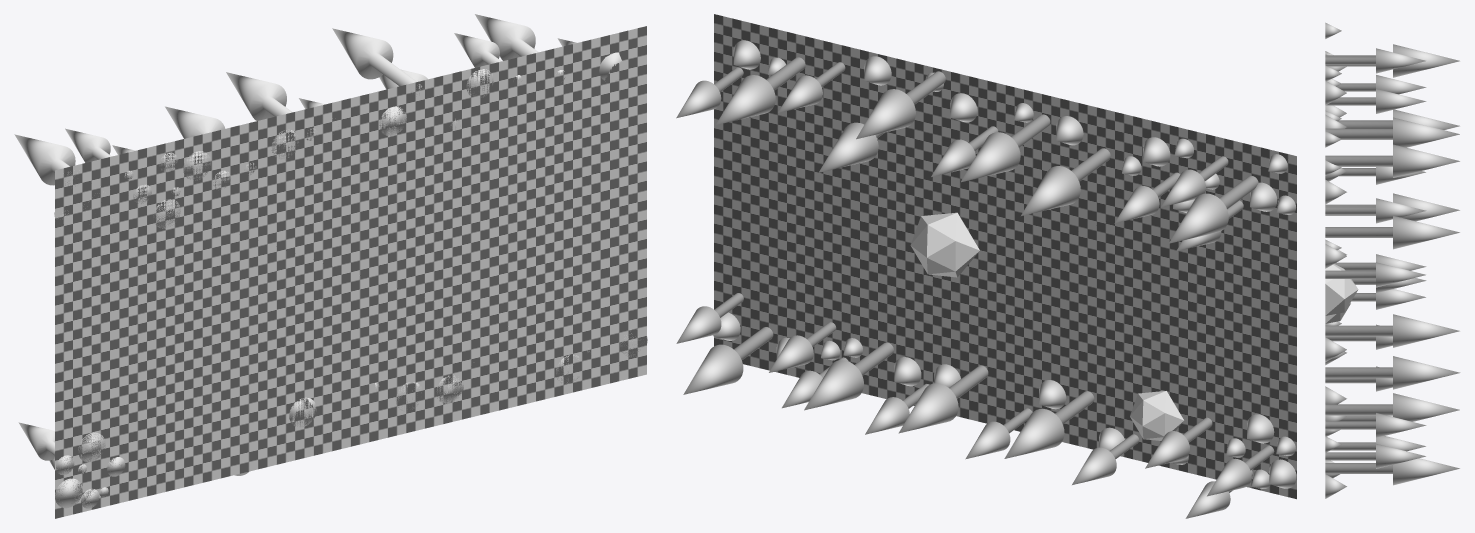
File: forest7.dae
The picture shows the model from 3 angles, left to right: view 1: azimuth 30°, elevation 25°; view 2: azimuth 150°, elevation 25°; view 3: azimuth 270°, elevation 25°; orthographic projection. The views are drawn at different scales.
Visible parts, largest first — view 1: Plane.007, Cone.379, Cone.371, Cone.380, Cone.357, Cone.368, Cone.338, Cone.341, Cone.361; view 2: Plane.007, Icosphere.009, Cone.350, Cone.372, Cone.390, Cone.386, Cone.371, Cone.379, Cone.380, Cone.368, Cone.357, Icosphere.008 (+15 smaller); view 3: Cone.372, Cone.350, Cone.379, Cone.380, Cone.386, Cone.371, Cone.390, Cone.395, Cone.338, Cone.397, Cone.341, Cone.387 (+22 smaller).
Part boxes in pixels (x1=…): Plane.007: x1=55, y1=26, x2=646, y2=518; Cone.379: x1=332, y1=28, x2=421, y2=95; Cone.371: x1=226, y1=72, x2=317, y2=140; Cone.380: x1=475, y1=14, x2=565, y2=82; Cone.357: x1=14, y1=134, x2=75, y2=185; Cone.368: x1=165, y1=106, x2=256, y2=175; Cone.338: x1=65, y1=128, x2=133, y2=180; Cone.341: x1=454, y1=33, x2=522, y2=81; Cone.361: x1=18, y1=422, x2=86, y2=473; Plane.007: x1=714, y1=14, x2=1296, y2=499; Icosphere.009: x1=910, y1=212, x2=979, y2=277; Cone.350: x1=1004, y1=391, x2=1094, y2=458; Cone.372: x1=898, y1=365, x2=988, y2=433; Cone.390: x1=683, y1=327, x2=773, y2=394; Cone.386: x1=804, y1=342, x2=893, y2=410; Cone.371: x1=961, y1=114, x2=1050, y2=182; Cone.379: x1=856, y1=71, x2=945, y2=139; Cone.380: x1=716, y1=57, x2=805, y2=124; Cone.368: x1=1021, y1=148, x2=1110, y2=215; Cone.357: x1=1169, y1=175, x2=1258, y2=243; Icosphere.008: x1=1130, y1=391, x2=1183, y2=440; Cone.372: x1=1325, y1=356, x2=1460, y2=389; Cone.350: x1=1325, y1=314, x2=1459, y2=347; Cone.379: x1=1325, y1=144, x2=1459, y2=177; Cone.380: x1=1325, y1=215, x2=1459, y2=249; Cone.386: x1=1325, y1=393, x2=1459, y2=421; Cone.371: x1=1325, y1=117, x2=1459, y2=147; Cone.390: x1=1325, y1=458, x2=1459, y2=485; Cone.395: x1=1325, y1=443, x2=1425, y2=468; Cone.338: x1=1325, y1=48, x2=1425, y2=73; Cone.397: x1=1325, y1=262, x2=1425, y2=287; Cone.341: x1=1325, y1=198, x2=1426, y2=223; Cone.387: x1=1325, y1=413, x2=1426, y2=437.
Size of the model in its own units: 64.07 by 16 by 37.33.
